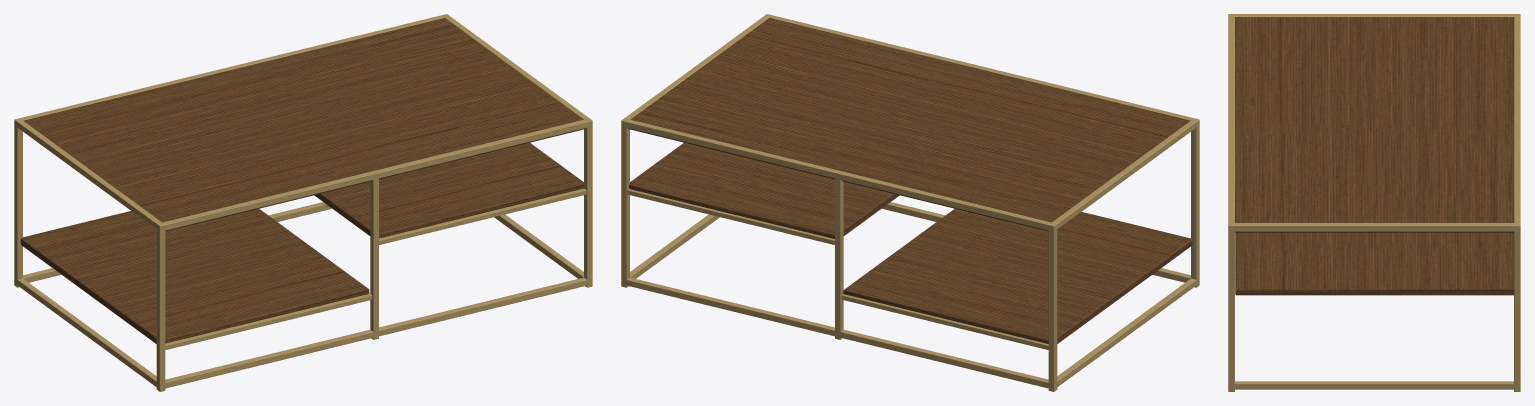
The picture shows the model from 3 angles, left to right: view 1: azimuth 30°, elevation 25°; view 2: azimuth 150°, elevation 25°; view 3: azimuth 270°, elevation 25°; orthographic projection.
Visible parts, largest first — view 1: SIENNA LV446-L01 | LV446-L01-01 optimized; view 2: SIENNA LV446-L01 | LV446-L01-01 optimized; view 3: SIENNA LV446-L01 | LV446-L01-01 optimized.
Part boxes in pixels (x1,y1,x2,y2): SIENNA LV446-L01 | LV446-L01-01 optimized: [14, 14, 592, 391]; SIENNA LV446-L01 | LV446-L01-01 optimized: [621, 14, 1199, 391]; SIENNA LV446-L01 | LV446-L01-01 optimized: [1228, 14, 1520, 391].
Bounding box in the file's own units: 1.2 × 0.44 × 0.7.
Materials: 2 (1 with a texture image).
